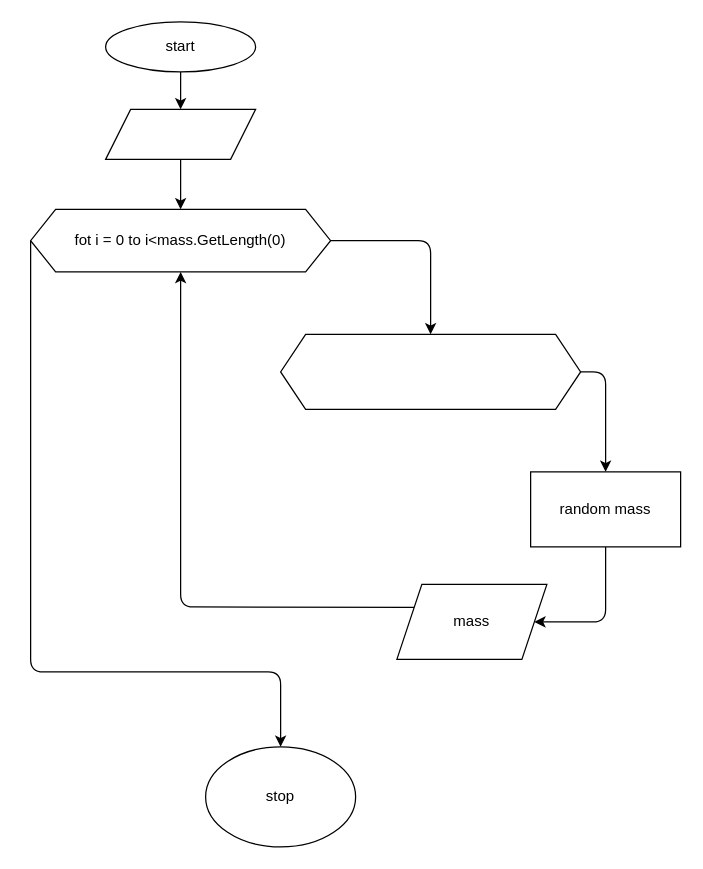
Some shapes in this 703 by 869 pixel diagram are drawn without their labels. Each missing label, with the box of its shape:
fot j = 0 to j<mass.GetLength(1): (279, 333, 581, 409)
n,m: (104, 108, 256, 159)
